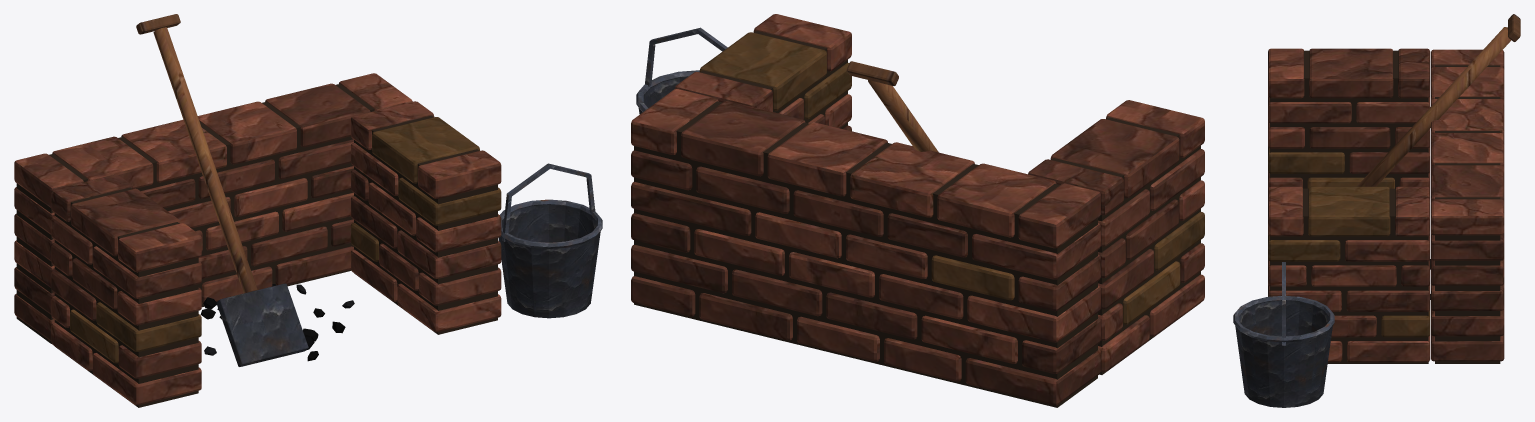
File: cf_charcoal_bay_empty.glb
3 renders of one model, left to right at view 1: azimuth 30°, elevation 25°; view 2: azimuth 150°, elevation 25°; view 3: azimuth 270°, elevation 25°, orthographic. The views are drawn at different scales.
Parts seen in each view (by area): view 1: model; view 2: model; view 3: model.
Part boxes in pixels (x1,y1,x2,y2): model: [14, 14, 602, 407]; model: [631, 14, 1204, 407]; model: [1233, 14, 1520, 407].
Bounding box in the file's own units: 1.53 × 0.8087 × 0.8603.
15 materials, 10 textured.
